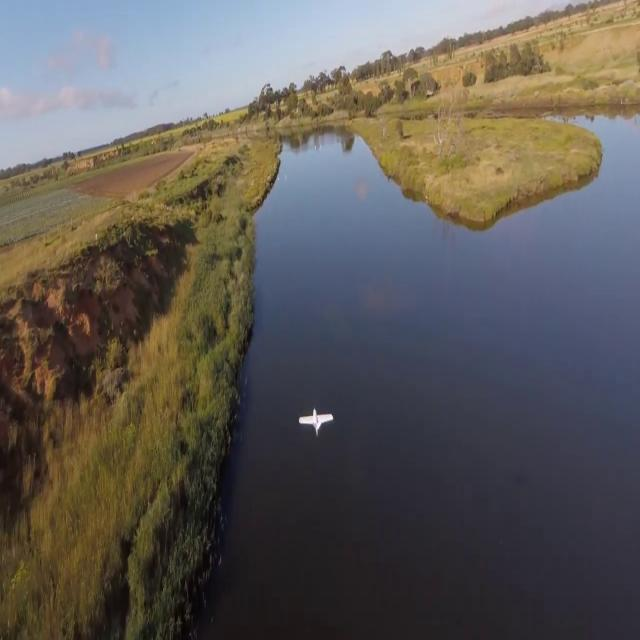iha: (298, 404, 335, 436)
